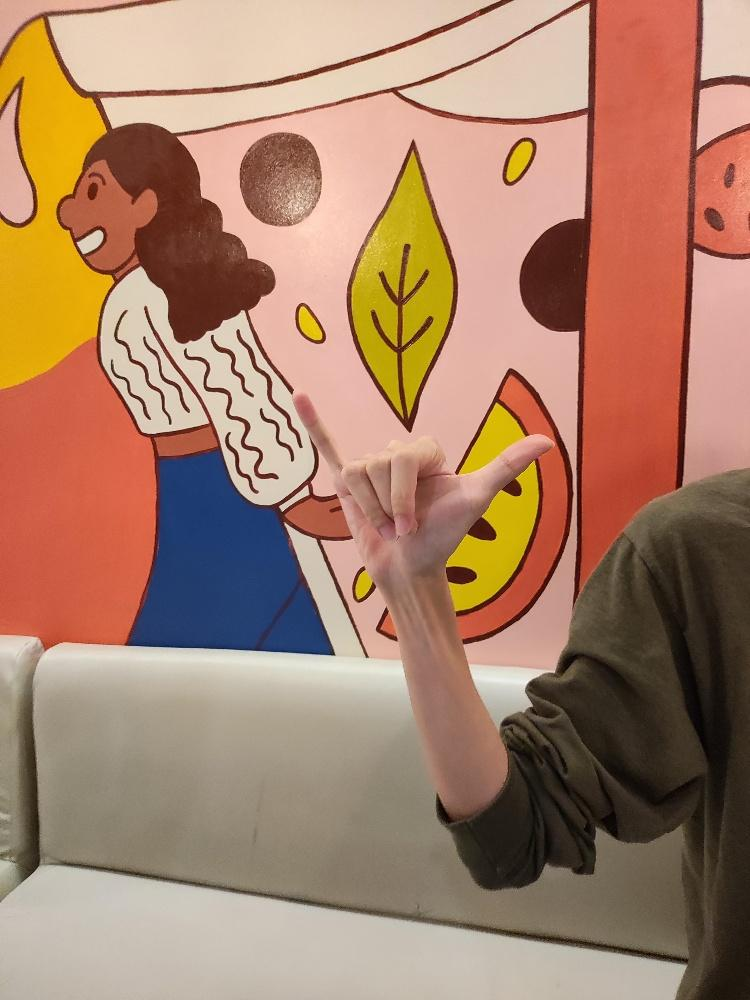y: (288, 386, 559, 587)
